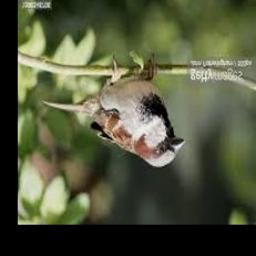Sparrow: (42, 55, 184, 167)
